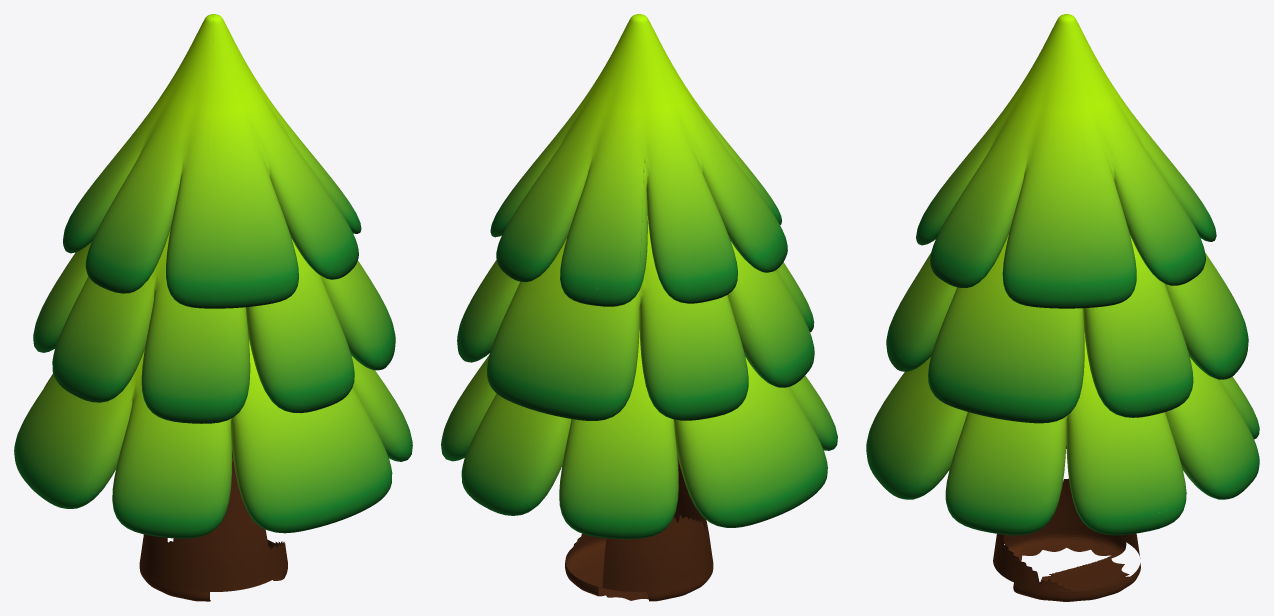
File: Tree.fbx
The picture shows the model from 3 angles, left to right: view 1: azimuth 30°, elevation 25°; view 2: azimuth 150°, elevation 25°; view 3: azimuth 270°, elevation 25°; orthographic projection.
Parts seen in each view (by area): view 1: sheets.002, sheets, sheets.001, Trunk; view 2: sheets.002, sheets, sheets.001, Trunk; view 3: sheets.002, sheets, sheets.001, Trunk.
Part boxes in pixels (x1=…): sheets.002: x1=63, y1=14, x2=361, y2=308; sheets: x1=14, y1=340, x2=412, y2=538; sheets.001: x1=33, y1=229, x2=395, y2=423; Trunk: x1=139, y1=449, x2=287, y2=601; sheets.002: x1=490, y1=14, x2=787, y2=306; sheets: x1=441, y1=330, x2=837, y2=539; sheets.001: x1=457, y1=216, x2=814, y2=420; Trunk: x1=565, y1=455, x2=713, y2=601; sheets.002: x1=916, y1=14, x2=1216, y2=308; sheets: x1=866, y1=333, x2=1259, y2=535; sheets.001: x1=886, y1=234, x2=1248, y2=423; Trunk: x1=993, y1=445, x2=1140, y2=601.
Size of the model in its own units: 232 by 366 by 232.
